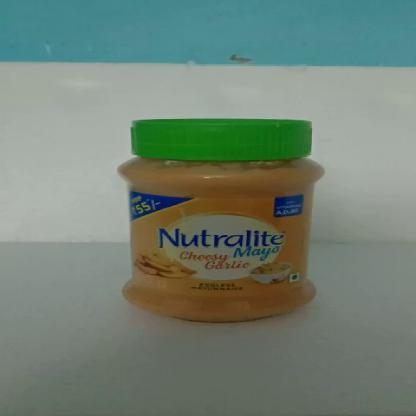Nutralite CHEESY GARLIC MAYO 300g-275g-25g-: (130, 119, 310, 310), (319, 312, 320, 317)
